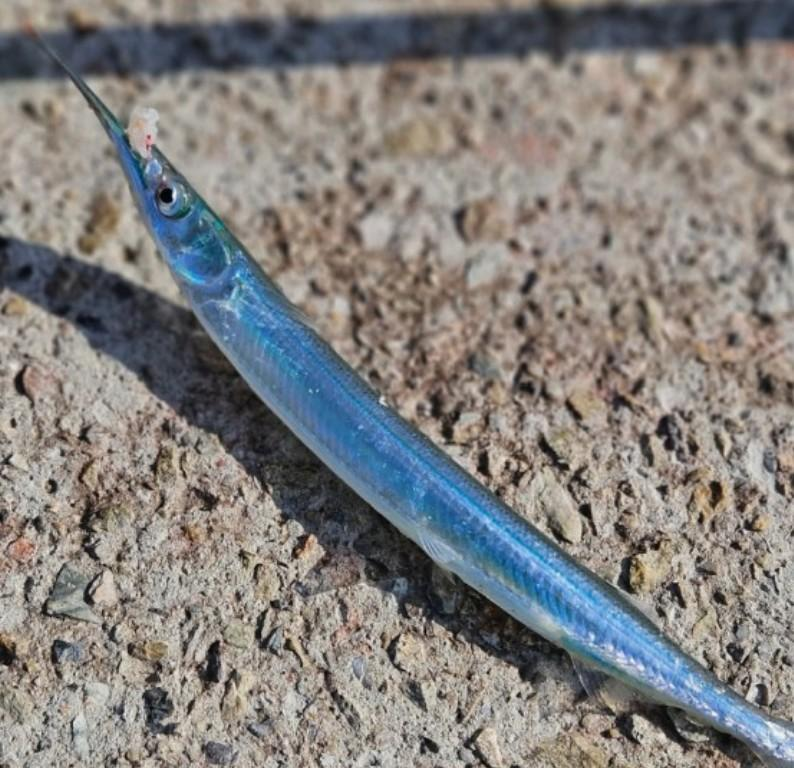fish: (24, 17, 793, 767)
